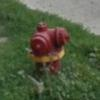a fire hydrant: (26, 23, 73, 80)
